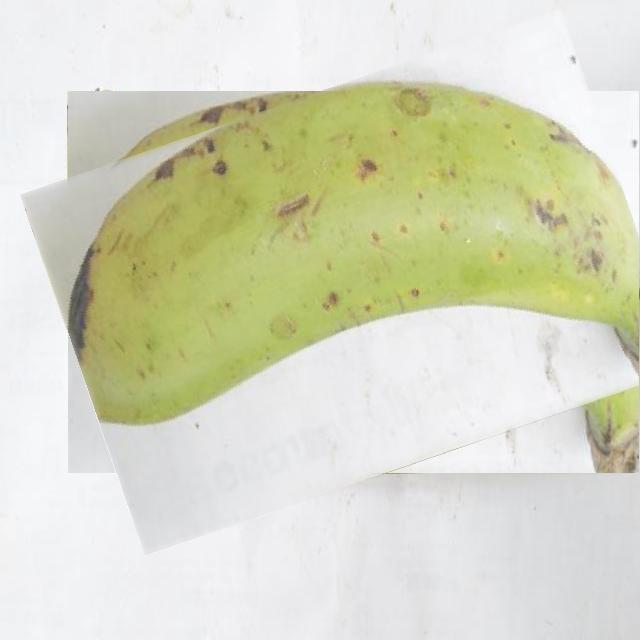Verde: (43, 50, 640, 516)
